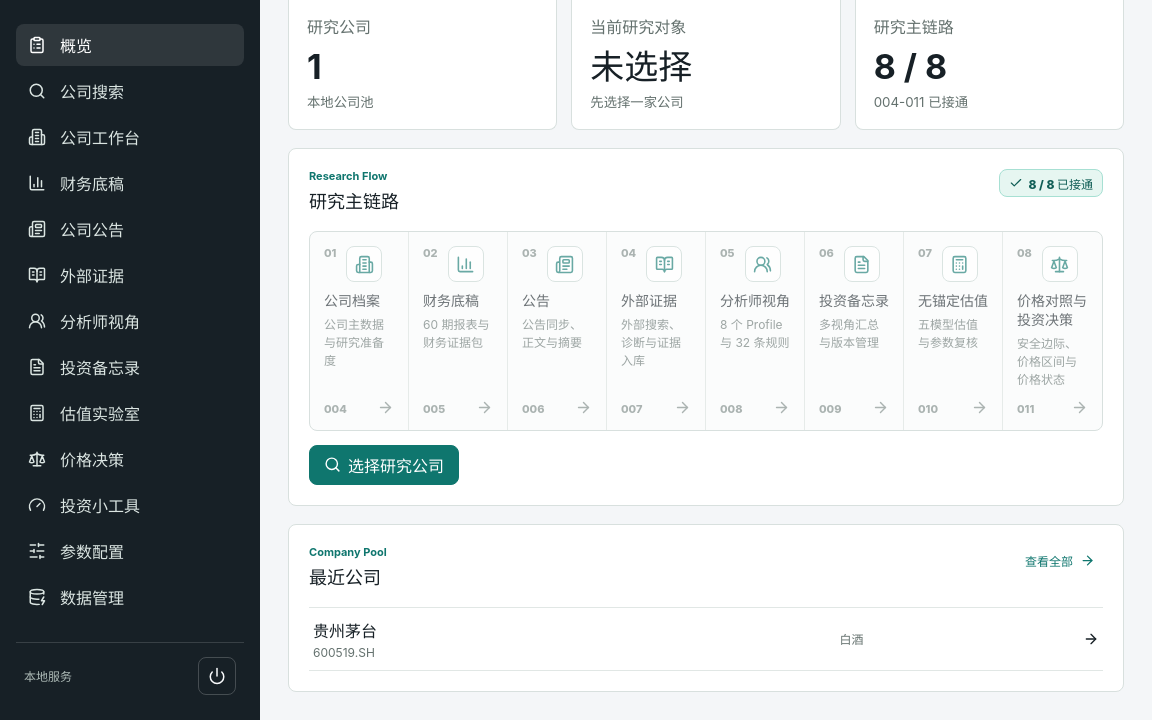
Scenario: App › confirms and requests local frontend and backend shutdown
(page scrolled)
Click the button named "关闭前后端服务": x=217, y=675 [198,656,236,694]
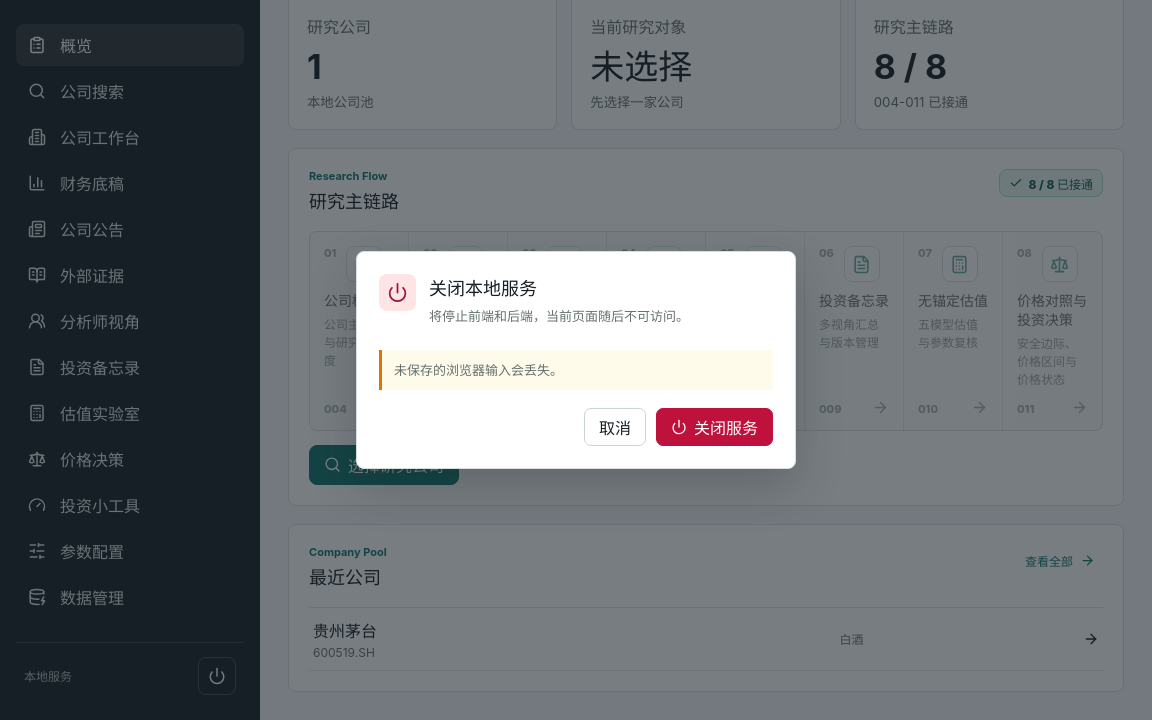
Expected: the text "未保存的浏览器输入会丢失。" is shown, [379,350,773,390]
Click the button "关闭服务": x=714, y=427 [656,408,773,446]
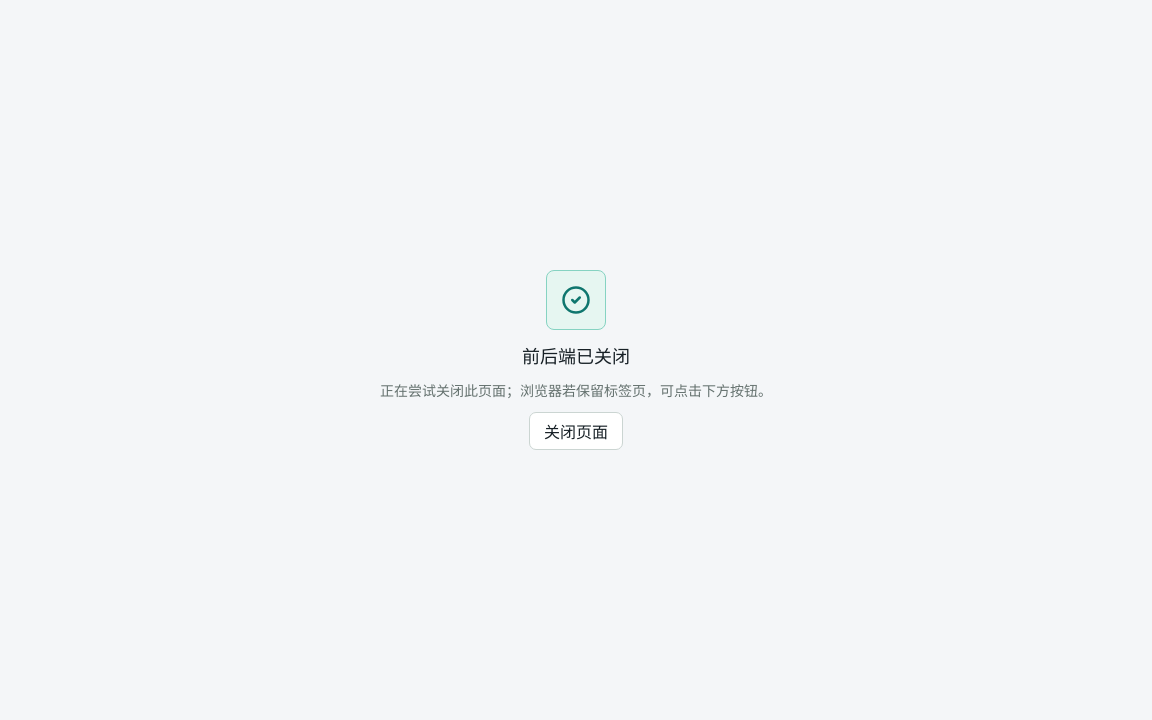
Expected: the heading "前后端已关闭" is shown, [522,342,630,368]
Expected: the button "关闭页面" is shown, [529,412,623,450]
